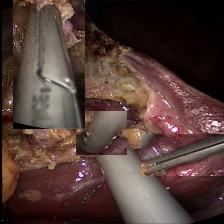Grasper: (12, 0, 84, 129), (140, 134, 224, 176)
Irrigator: (75, 112, 126, 156)
